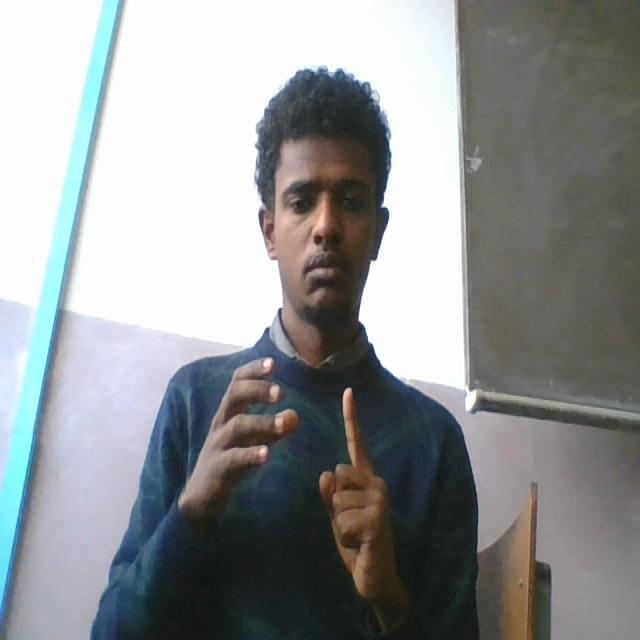melqeq: (186, 354, 406, 612)
